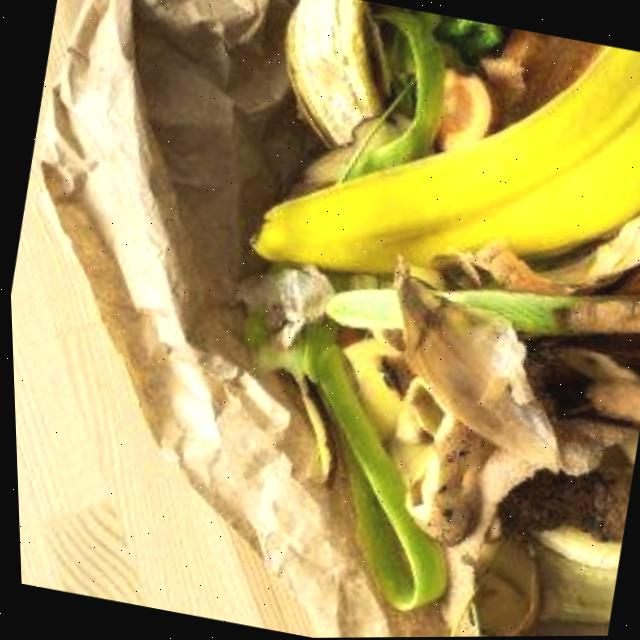Garbage: (241, 0, 640, 638)
